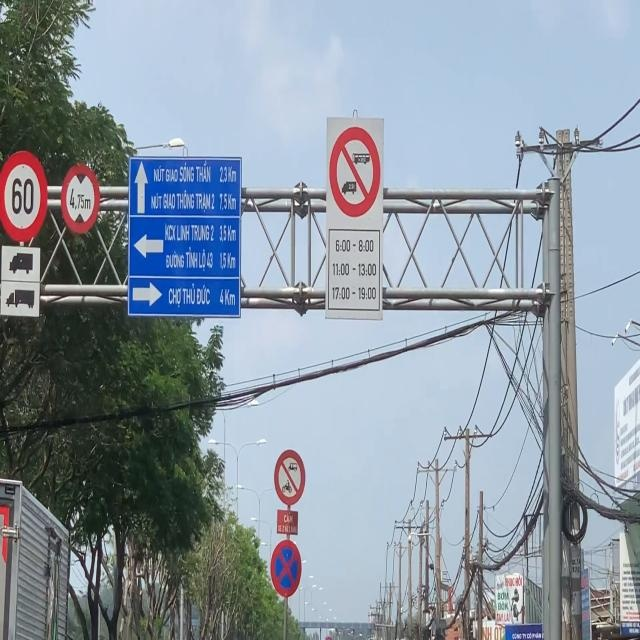bien_cam: (0, 148, 50, 242), (59, 161, 100, 237), (268, 538, 304, 600)
